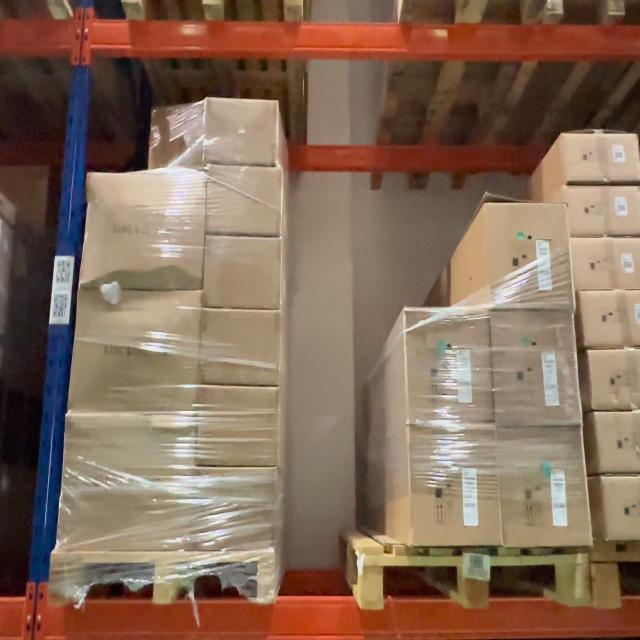box: (65, 419, 194, 548), (79, 290, 198, 406), (86, 176, 202, 286), (406, 315, 490, 424), (409, 437, 495, 542), (504, 435, 584, 541), (491, 204, 567, 305), (496, 321, 572, 420), (199, 391, 279, 462), (202, 312, 278, 384), (200, 475, 276, 542), (206, 241, 279, 307), (209, 168, 279, 233), (206, 99, 276, 162)
